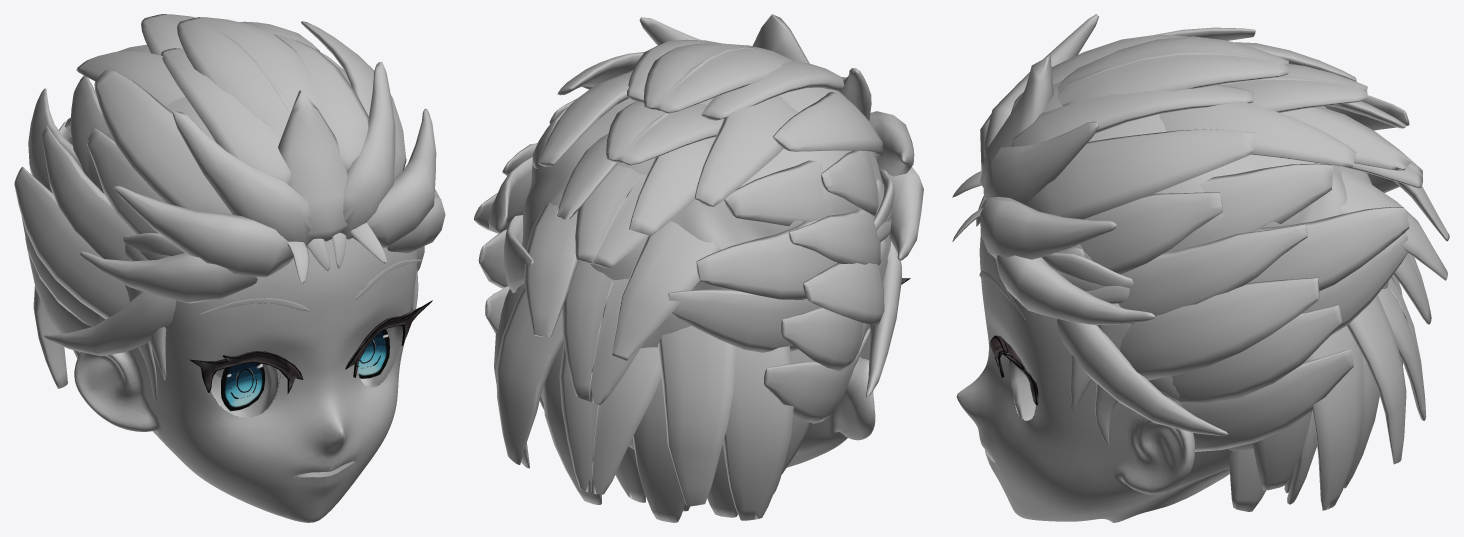
3 views of the same model, side by side, from view 1: azimuth 30°, elevation 25°; view 2: azimuth 150°, elevation 25°; view 3: azimuth 270°, elevation 25° (orthographic). The views are drawn at different scales.
Parts seen in each view (by area): view 1: Front_parts14_78, PM3D_Sphere3D1_40, PM3D_Sphere3D1_71, PM3D_Sphere3D1_153, PM3D_Sphere3D1_172, PM3D_Sphere3D1_198, PM3D_Sphere3D1_173, PM3D_Sphere3D1_151, PM3D_Sphere3D1_150, PM3D_Sphere3D1_184, PM3D_Sphere3D1_186, PM3D_Sphere3D1_187 (+17 smaller); view 2: PM3D_Sphere3D1_189, PM3D_Sphere3D1_180, PM3D_Sphere3D1_188, PM3D_Sphere3D1_177, PM3D_Sphere3D1_187, PM3D_Sphere3D1_190, PM3D_Sphere3D1_195, PM3D_Sphere3D1_191, PM3D_Sphere3D1_194, PM3D_Sphere3D1_198, PM3D_Sphere3D1_197, PM3D_Sphere3D1_176 (+20 smaller); view 3: Front_parts14_78, PM3D_Sphere3D1_153, PM3D_Sphere3D1_173, PM3D_Sphere3D1_198, PM3D_Sphere3D1_184, PM3D_Sphere3D1_190, PM3D_Sphere3D1_196, PM3D_Sphere3D1_172, PM3D_Sphere3D1_187, PM3D_Sphere3D1_174, PM3D_Sphere3D1_175, PM3D_Sphere3D1_71 (+24 smaller).
Part boxes in pixels (x1,y1,x2,y2): Front_parts14_78: (74,238,417,522); PM3D_Sphere3D1_40: (114,108,436,278); PM3D_Sphere3D1_71: (173,61,395,247); PM3D_Sphere3D1_153: (94,21,406,214); PM3D_Sphere3D1_172: (161,33,369,184); PM3D_Sphere3D1_198: (177,17,319,126); PM3D_Sphere3D1_173: (14,166,129,319); PM3D_Sphere3D1_151: (80,189,445,303); PM3D_Sphere3D1_150: (278,90,347,241); PM3D_Sphere3D1_184: (41,126,134,261); PM3D_Sphere3D1_186: (44,246,424,356); PM3D_Sphere3D1_187: (76,21,320,105); PM3D_Sphere3D1_189: (496,286,736,506); PM3D_Sphere3D1_180: (524,202,721,360); PM3D_Sphere3D1_188: (522,59,882,449); PM3D_Sphere3D1_177: (494,284,793,520); PM3D_Sphere3D1_187: (538,71,798,206); PM3D_Sphere3D1_190: (488,156,837,299); PM3D_Sphere3D1_195: (559,343,661,494); PM3D_Sphere3D1_191: (504,215,820,352); PM3D_Sphere3D1_194: (562,261,643,404); PM3D_Sphere3D1_198: (643,42,791,113); PM3D_Sphere3D1_197: (556,133,710,235); PM3D_Sphere3D1_176: (542,344,685,522); Front_parts14_78: (956,235,1232,522); PM3D_Sphere3D1_153: (1026,27,1255,219); PM3D_Sphere3D1_173: (1120,277,1319,380); PM3D_Sphere3D1_198: (1057,36,1288,105); PM3D_Sphere3D1_184: (1118,224,1307,324); PM3D_Sphere3D1_190: (1248,95,1409,291); PM3D_Sphere3D1_196: (1180,349,1353,451); PM3D_Sphere3D1_172: (1011,34,1253,146); PM3D_Sphere3D1_187: (1159,42,1356,166); PM3D_Sphere3D1_174: (1172,305,1342,402); PM3D_Sphere3D1_175: (1080,192,1222,274); PM3D_Sphere3D1_71: (983,14,1098,205).
Bounding box in the file's own units: 2.12 × 2.49 × 2.41.
Materials: 45 (2 with a texture image).
